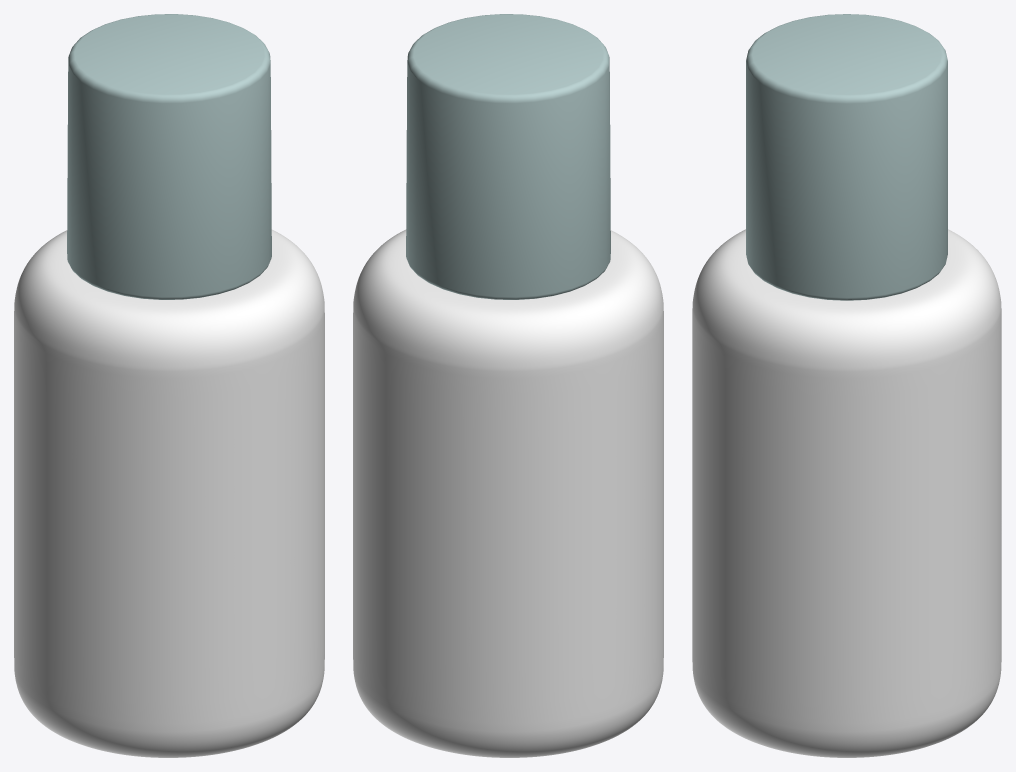
The model's file is perfume4.glb.
3 views of the same model, side by side, from view 1: azimuth 30°, elevation 25°; view 2: azimuth 150°, elevation 25°; view 3: azimuth 270°, elevation 25° (orthographic).
Parts seen in each view (by area): view 1: bottle, cap; view 2: bottle, cap; view 3: bottle, cap.
Boxes of the visible parts, left/top/right/bottom form: bottle: left=14, top=229, right=324, bottom=757; cap: left=67, top=14, right=271, bottom=299; bottle: left=353, top=229, right=663, bottom=757; cap: left=406, top=14, right=610, bottom=299; bottle: left=692, top=229, right=1001, bottom=757; cap: left=746, top=14, right=947, bottom=300.
Bounding box in the file's own units: 1.43 × 3.3 × 1.42.
